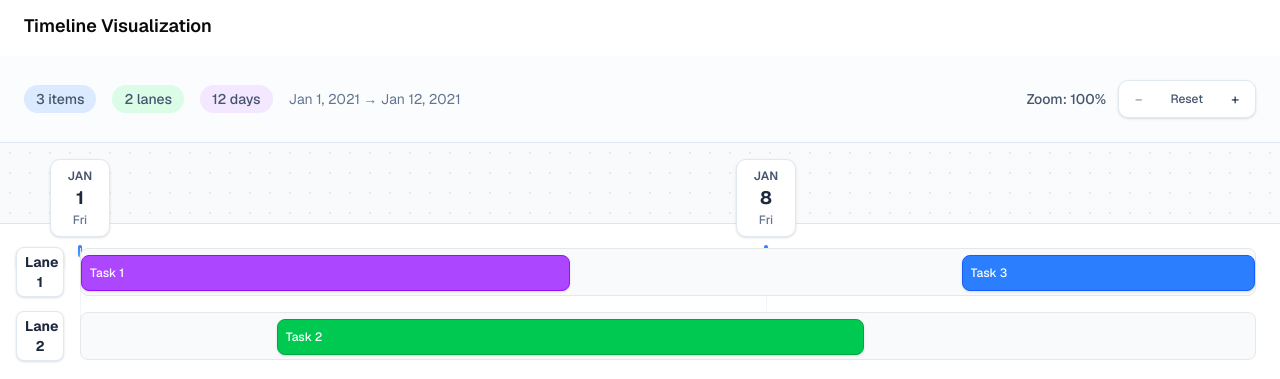
Timeline Integration Tests › should handle inline editing workflow
This screenshot has width=1280, height=379.
Click the text "Task 1": {"x": 107, "y": 273} [90,265,124,281]
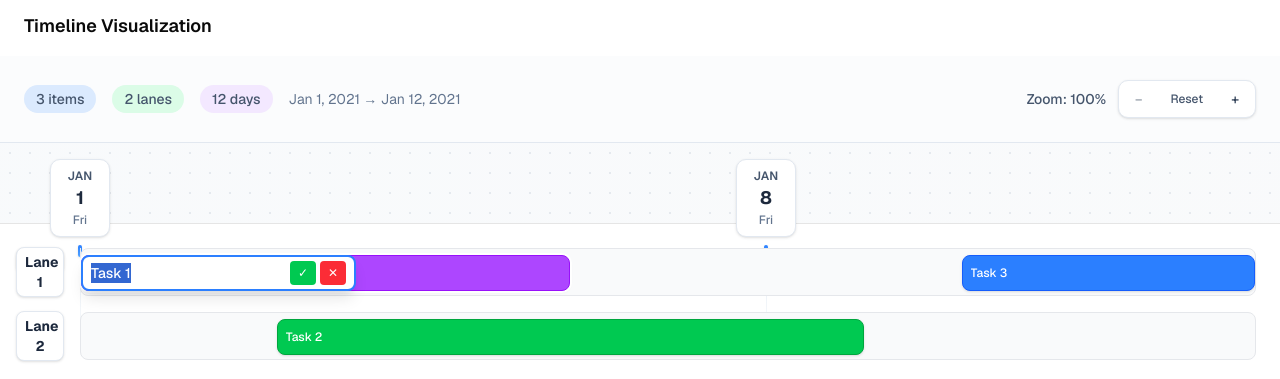
Result: the field showing "Task 1" is shown
Replace the text in the field showing "Task 1" with "Updated Task 1": {"x": 186, "y": 273} [91,263,282,283]
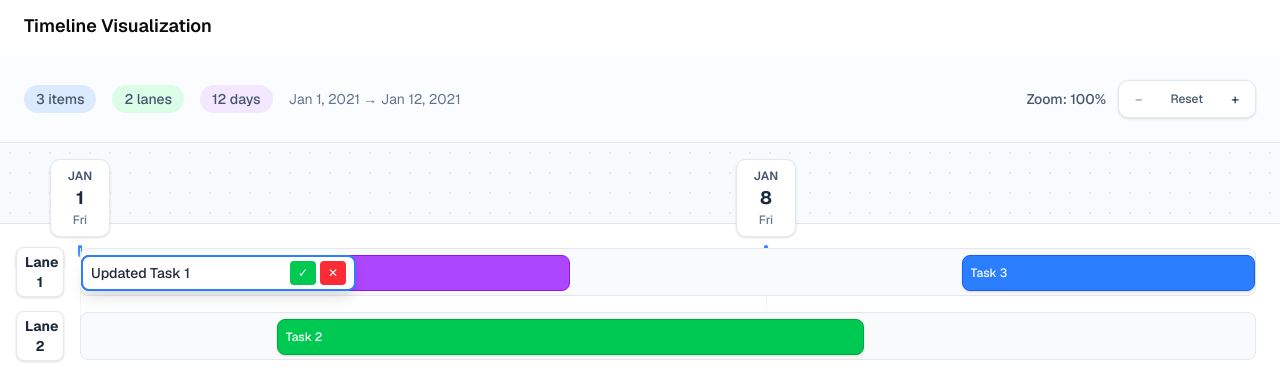
Press Enter in the field showing "Task 1", box [91,263,282,283]
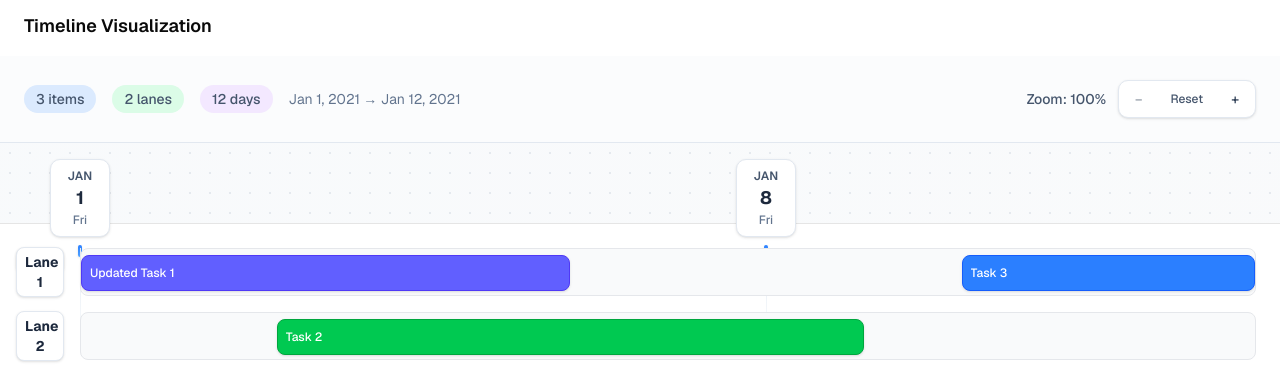
Result: the text "Updated Task 1" is shown at [90,265,175,281]
